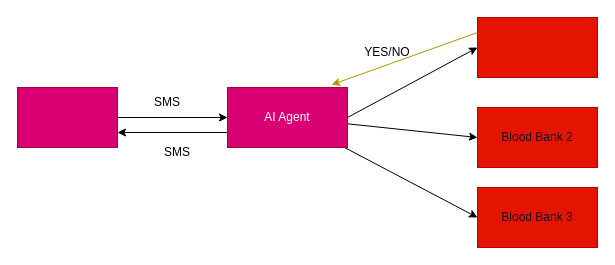
Image size: 615x265. Some labels were removed from this diagram. Here are the shapes that lost their labels. From the top down, the centre of each, then its label:
At (537,47): "Blood Bank 1".
At (67,117): "Patient".
